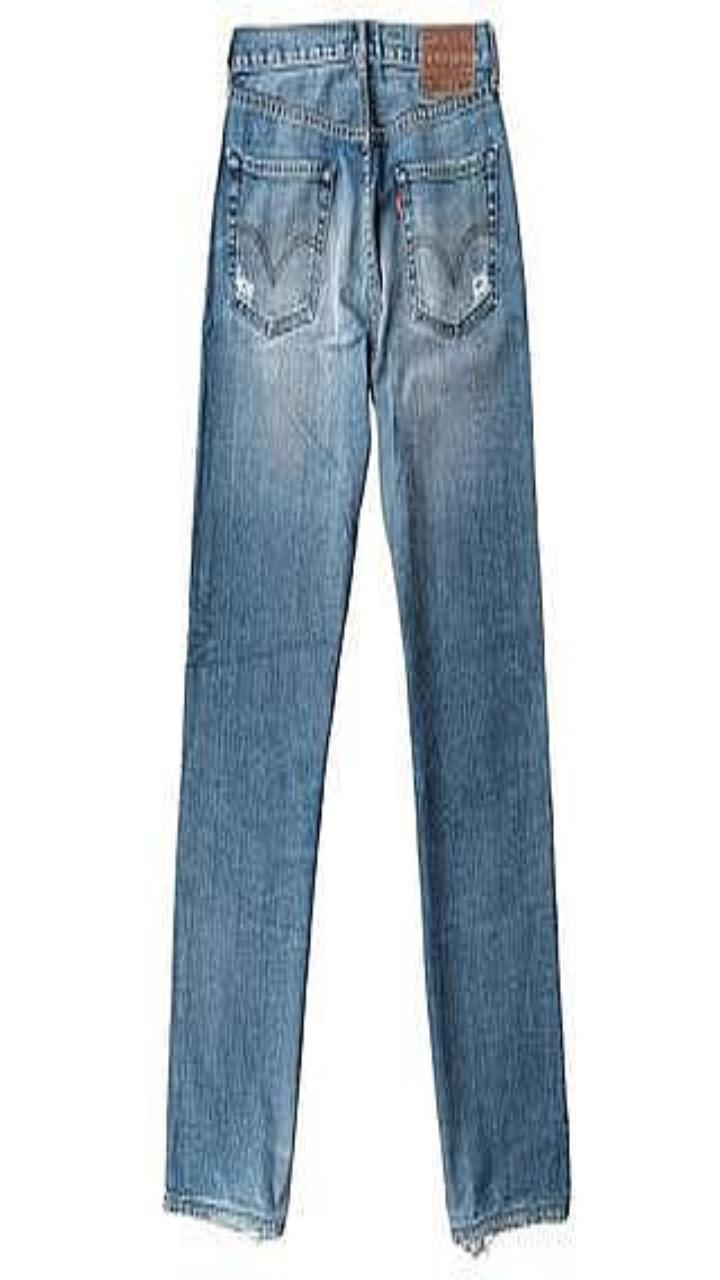Jeans: (164, 20, 569, 1249)
